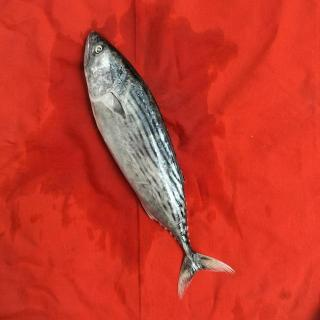Ikan: (72, 24, 226, 292)
